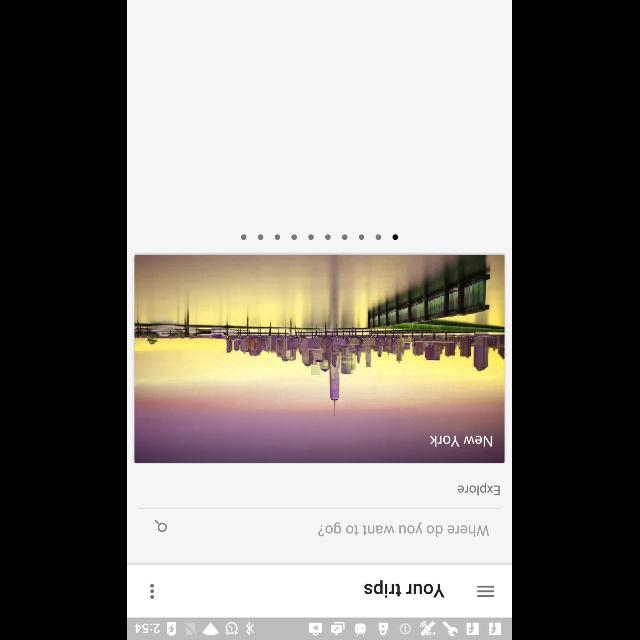icon: (154, 520, 168, 532), (478, 586, 494, 596), (150, 583, 156, 599)
image: (135, 255, 505, 463)
input: (139, 508, 501, 536)
pageindicator: (241, 233, 399, 240)
text: (318, 522, 490, 536), (365, 580, 445, 598), (431, 435, 494, 447), (458, 482, 502, 496)
toolbar: (128, 565, 512, 617)
uppertaskbar: (128, 617, 512, 639)
